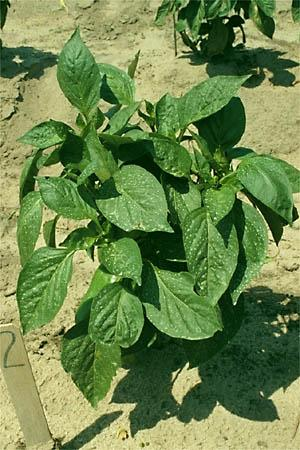Bell_pepper leaf: (142, 255, 230, 342), (12, 242, 78, 345), (57, 328, 122, 417), (183, 206, 238, 310), (174, 61, 255, 130), (99, 162, 173, 235), (89, 284, 143, 346), (35, 172, 96, 218), (13, 193, 44, 270), (99, 235, 144, 285), (201, 185, 239, 223)
